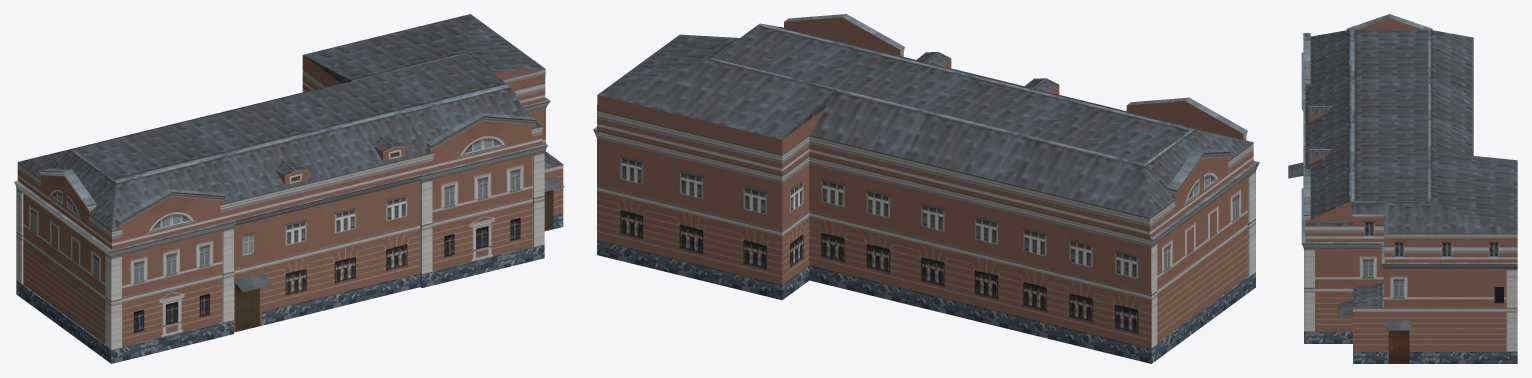
3 renders of one model, left to right at view 1: azimuth 30°, elevation 25°; view 2: azimuth 150°, elevation 25°; view 3: azimuth 270°, elevation 25°, orthographic. The views are drawn at different scales.
Visible parts, largest first — view 1: House_3_lod_2; view 2: House_3_lod_2; view 3: House_3_lod_2.
Part boxes in pixels (box(x1,y1,x2,y2)): House_3_lod_2: box(14, 14, 564, 363); House_3_lod_2: box(593, 14, 1259, 363); House_3_lod_2: box(1288, 14, 1517, 363).
Size of the model in its own units: 185 by 55.99 by 82.77.
